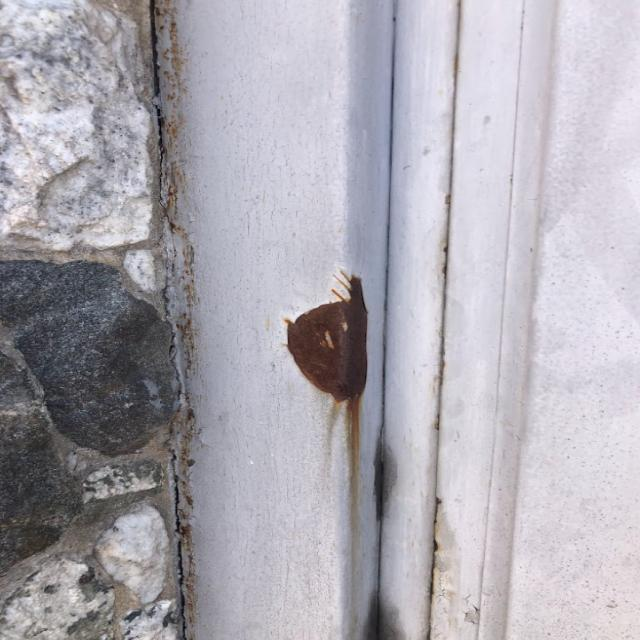Corrosion: (154, 2, 205, 640), (278, 267, 375, 404)
